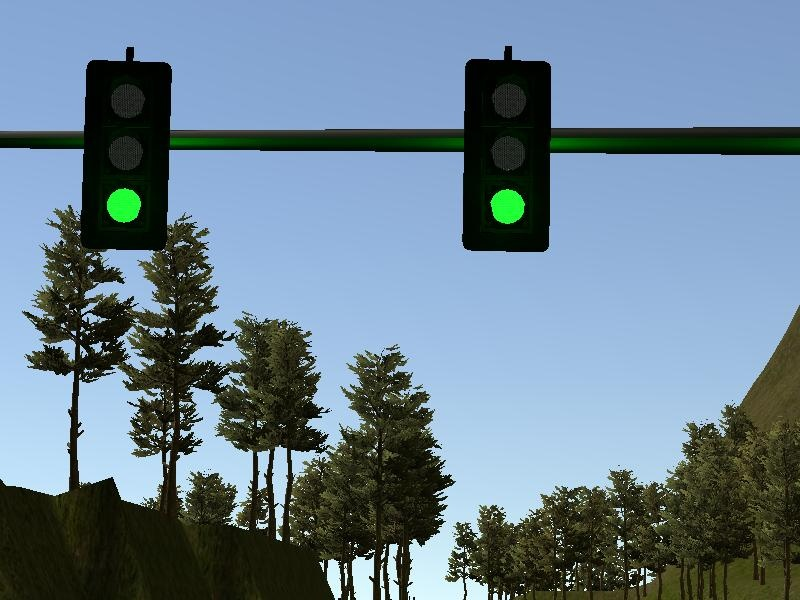green: (458, 57, 554, 254), (78, 58, 174, 253)
